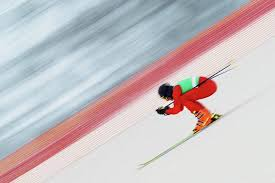skier: (103, 53, 259, 178)
